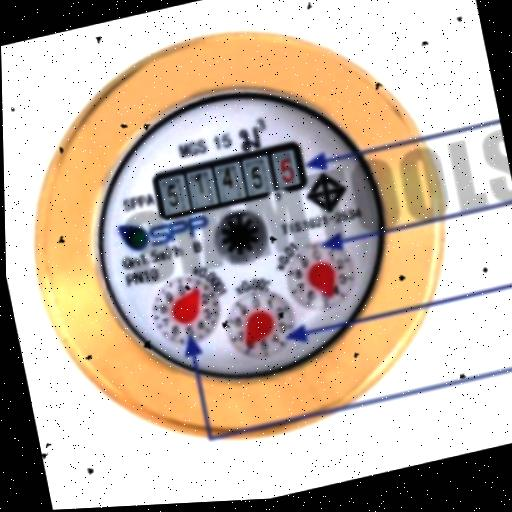1: (190, 172, 212, 208)
4: (218, 165, 241, 200)
5: (162, 179, 185, 214), (247, 160, 268, 195), (277, 153, 297, 186)
border_water_meter_number: (150, 140, 309, 222)
